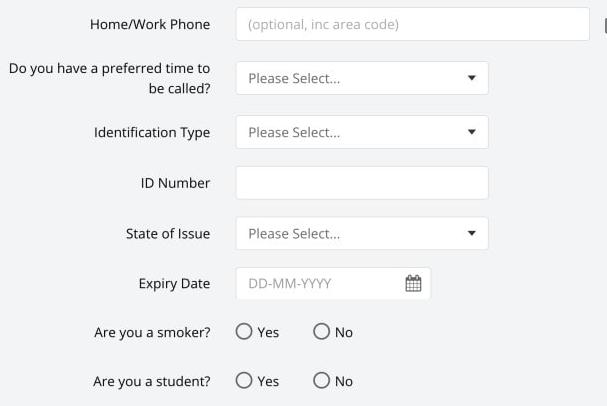field: (229, 5, 590, 42), (232, 166, 491, 203), (234, 216, 489, 251), (234, 61, 488, 96), (234, 115, 489, 149), (233, 265, 431, 303)
field_with_label: (87, 4, 594, 45), (7, 58, 490, 98), (140, 163, 494, 206), (95, 112, 491, 150), (127, 214, 492, 252), (139, 263, 435, 305)
radio: (234, 322, 258, 342), (311, 322, 333, 343), (311, 370, 331, 389), (236, 371, 255, 390)
radio_with_label: (229, 319, 281, 344), (231, 369, 278, 393), (308, 319, 353, 344), (308, 367, 353, 392)
